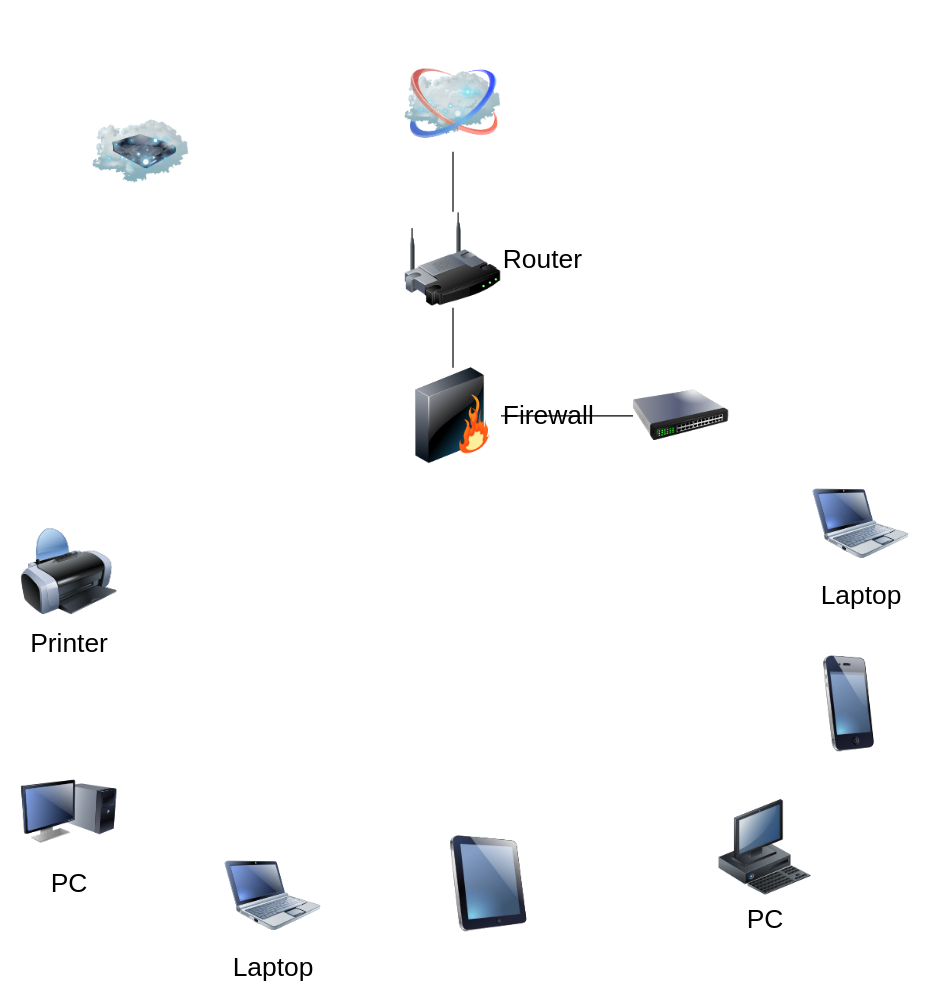
The diagram is 929 pixels wide and 1003 high, and some of its shapes have lost their labels. Each missing label, with the box of its shape:
Internet: (404, 55, 500, 151)
Mobile: (800, 655, 896, 751)
Switch 24p: (632, 367, 728, 463)
Tablet: (440, 835, 536, 931)
